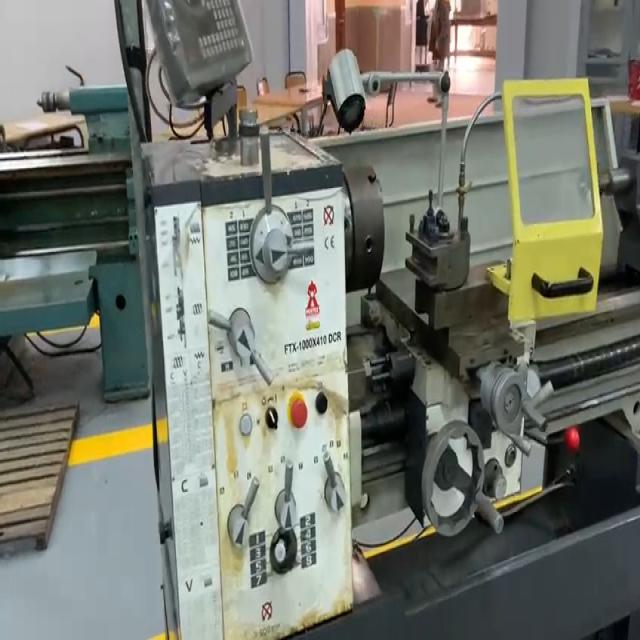tour parallele: (118, 0, 640, 640)
